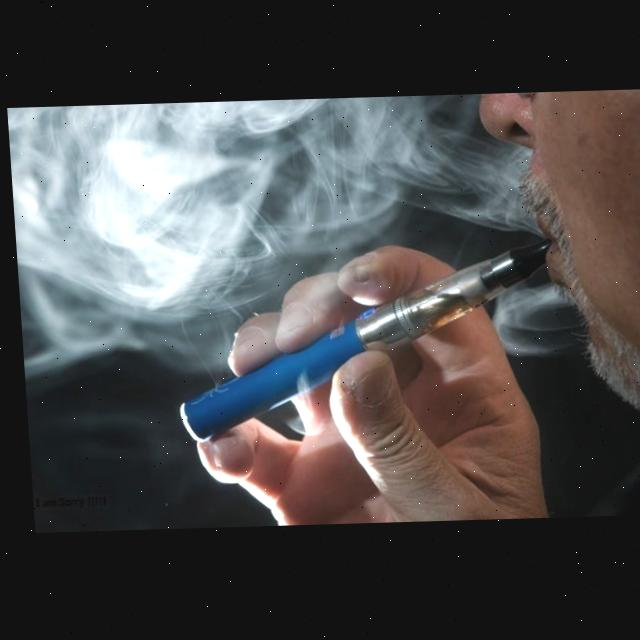vape: (165, 239, 559, 443)
